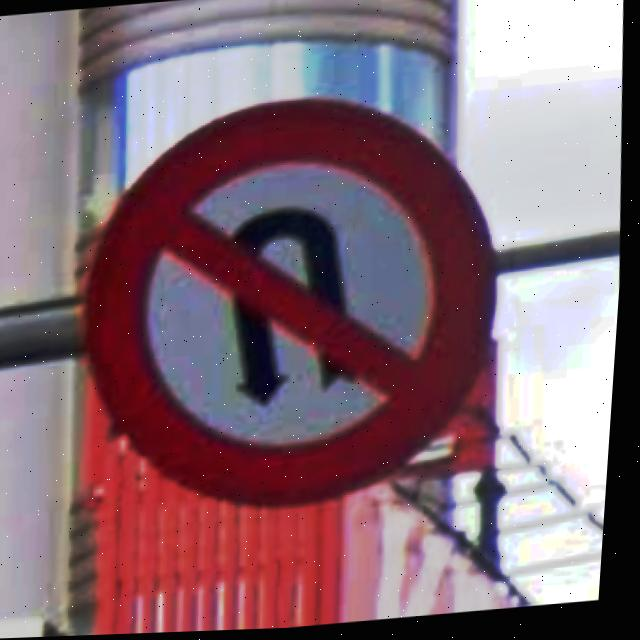nouturn: (87, 103, 502, 512)
